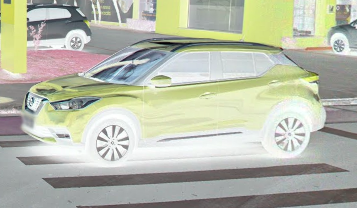car: (21, 36, 323, 162)
